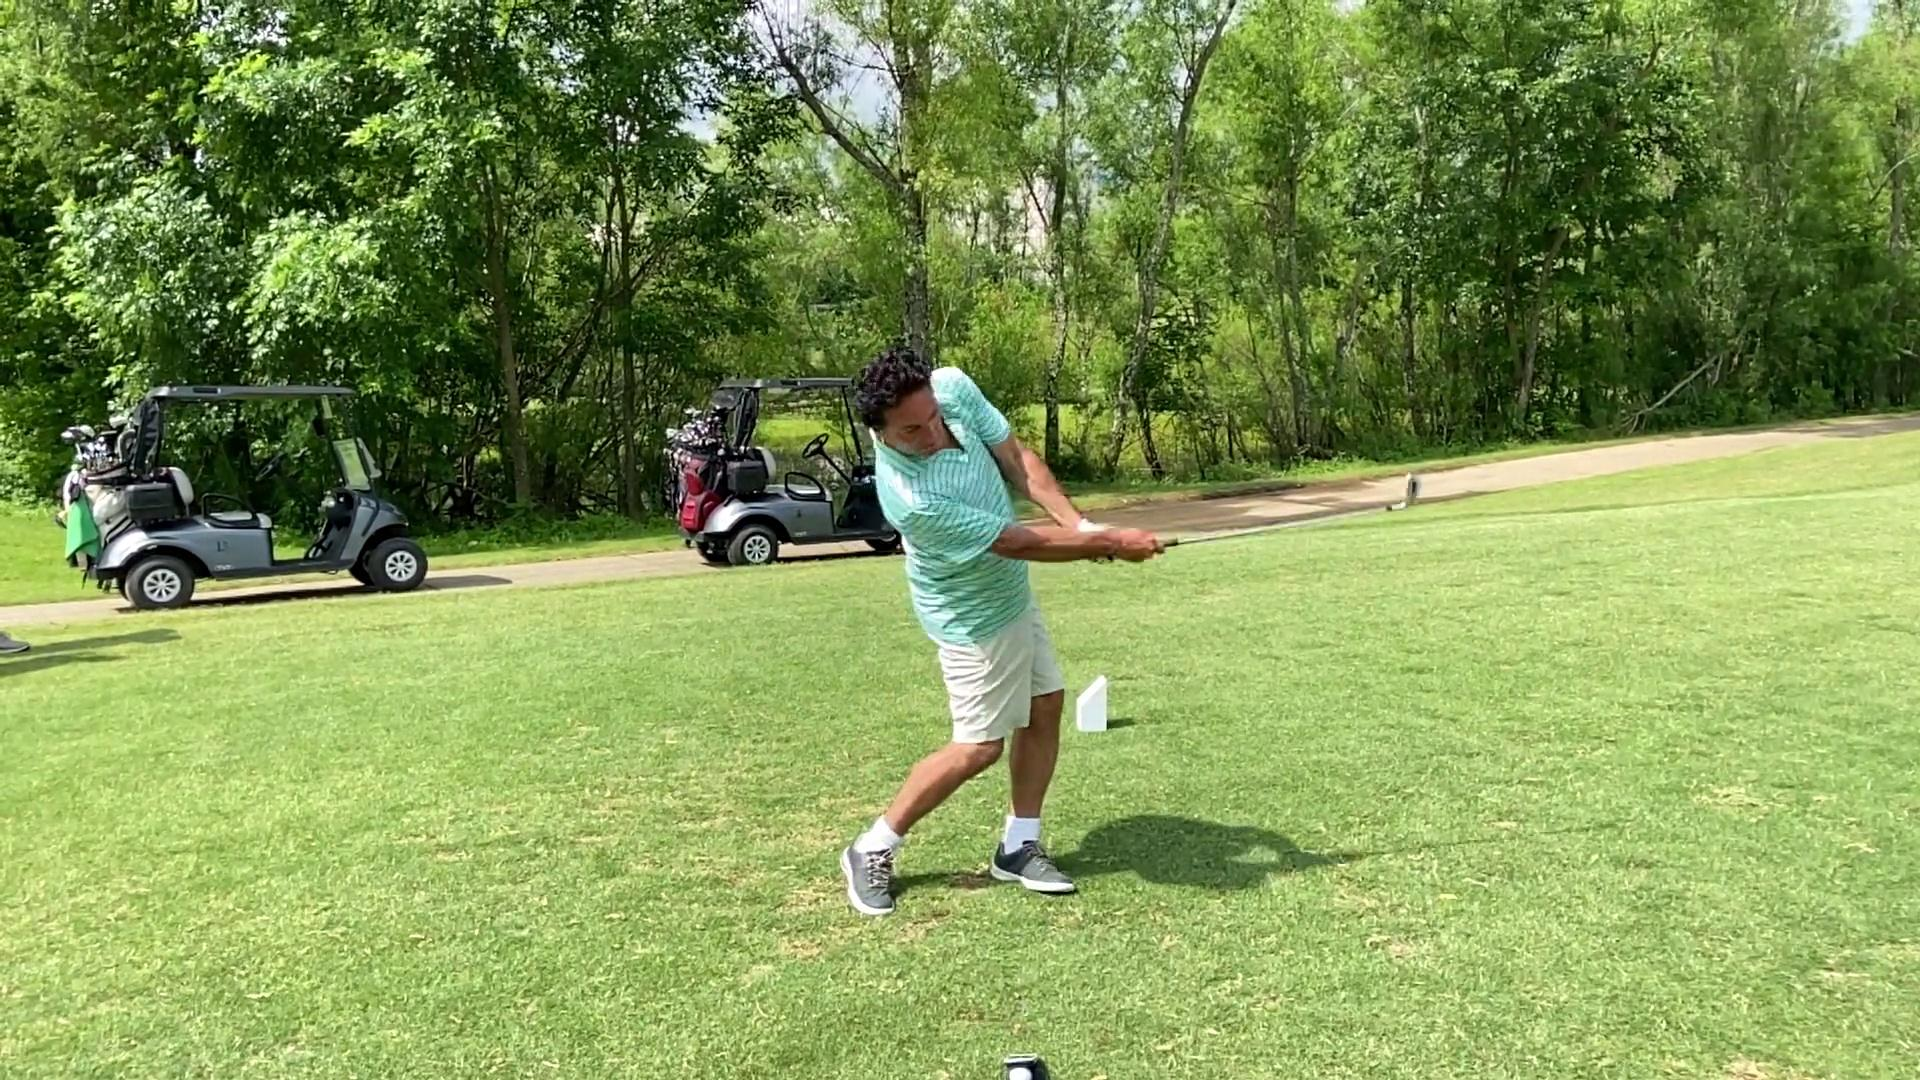ClubHead: (1373, 468, 1423, 520)
